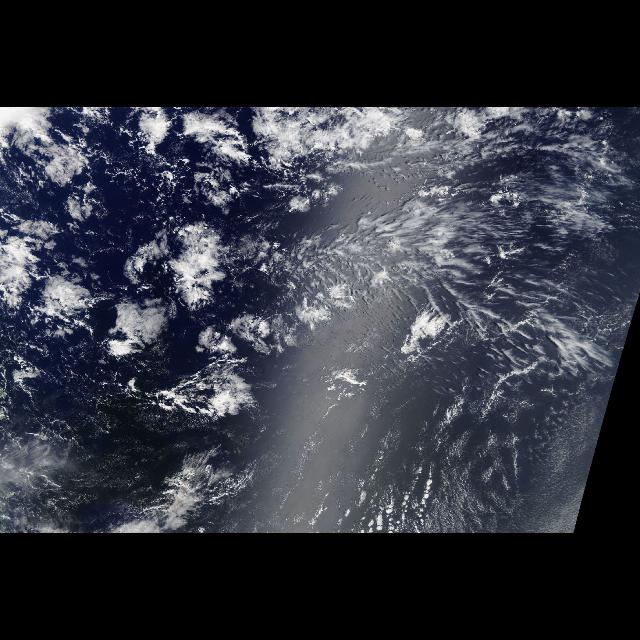Flower: (2, 110, 256, 418)
Sugar: (435, 403, 599, 532)
